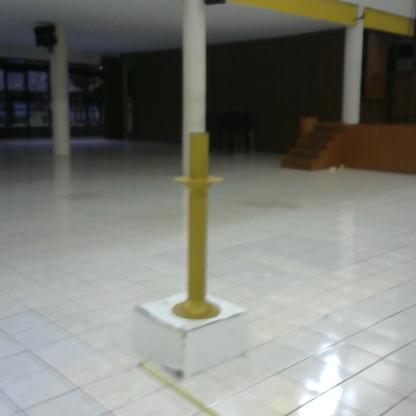pole: (167, 126, 228, 331)
